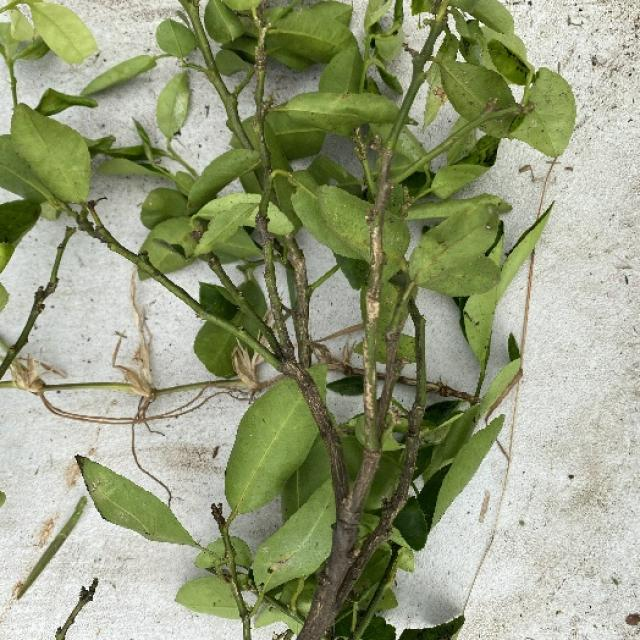organic: (418, 409, 509, 538)
